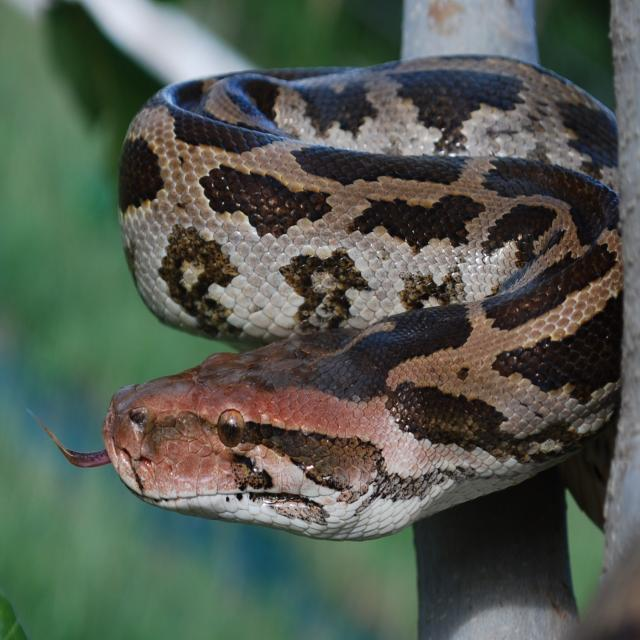Snake: (31, 52, 623, 542)
